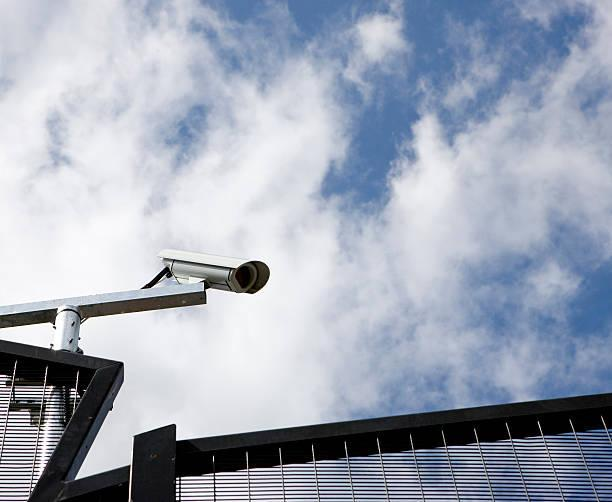camera: (150, 239, 281, 318)
